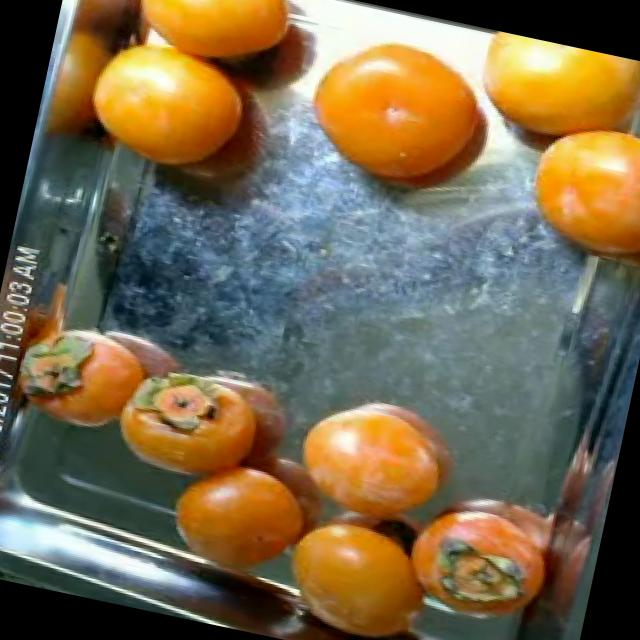Fruit: (265, 6, 522, 232), (261, 370, 478, 554), (146, 436, 338, 590), (257, 494, 457, 640), (496, 97, 640, 287)
